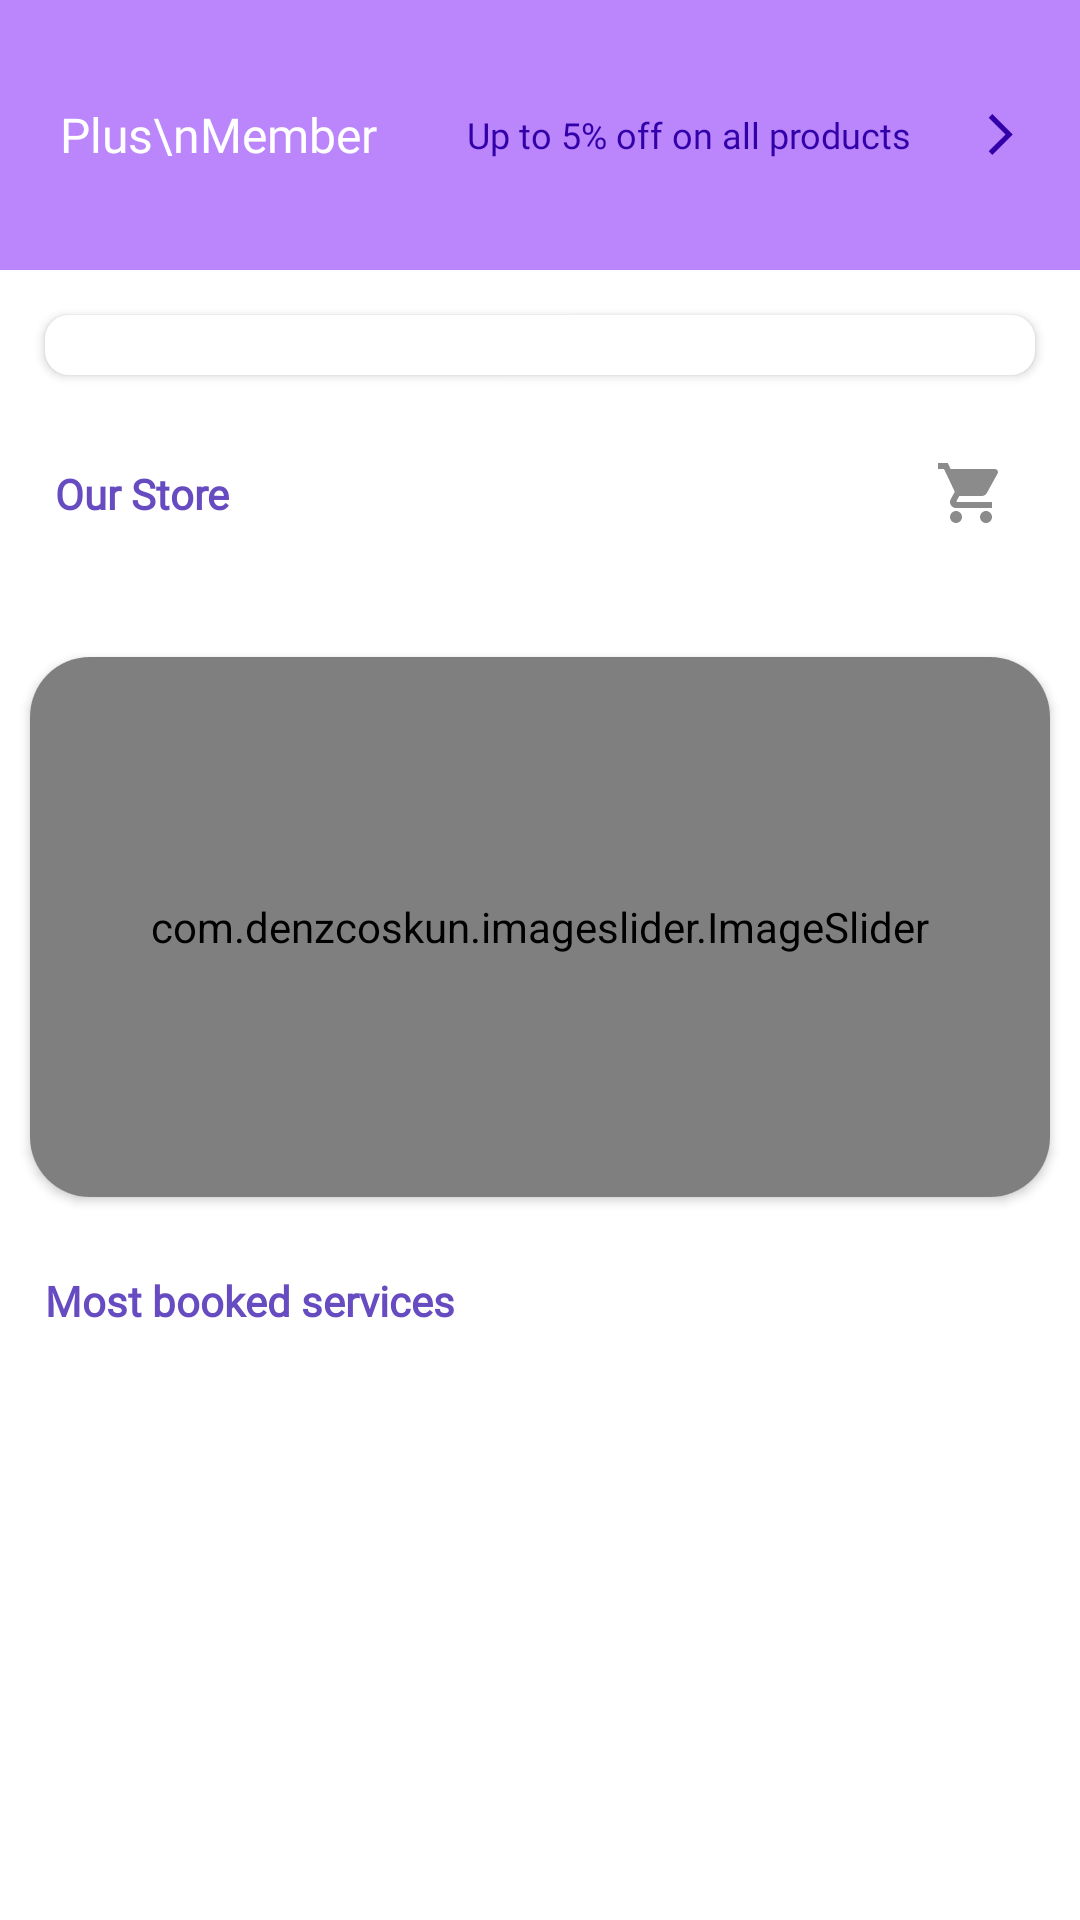

Icon bounding boxes for this 1080px x 1920px phone screenshot, format (x1, y1, x2, y2):
arrow: (989, 114, 1013, 155)
cart: (938, 463, 998, 523)
